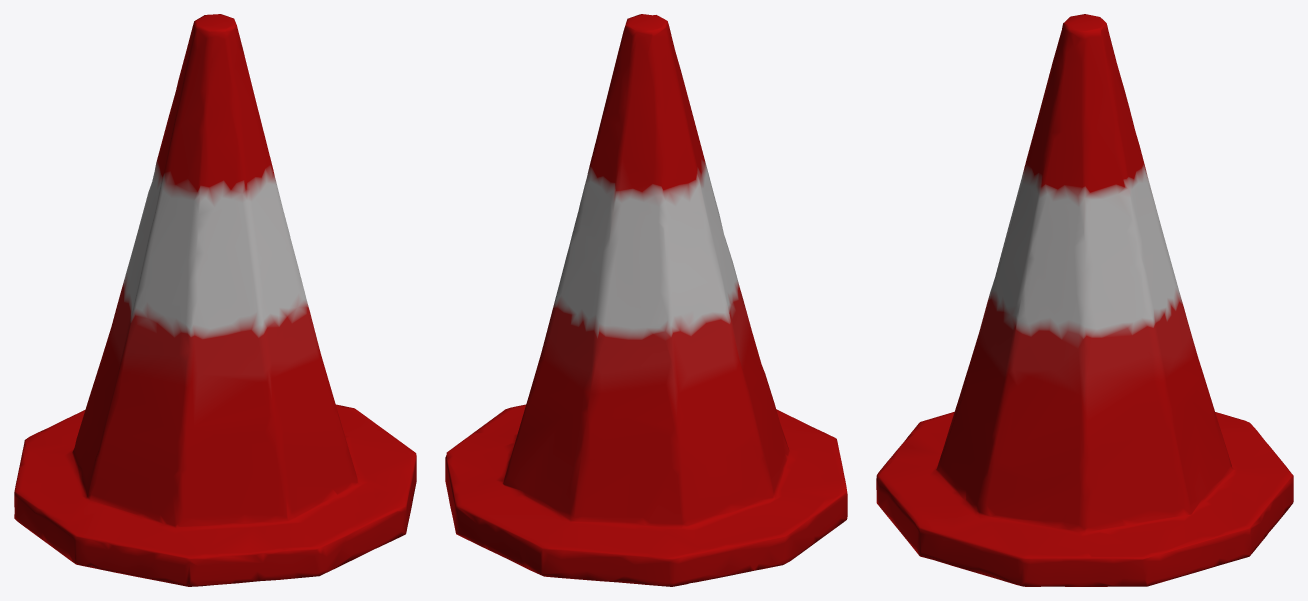
The model's file is gen3d-traffic-cone-lod0.glb.
3 views of the same model, side by side, from view 1: azimuth 30°, elevation 25°; view 2: azimuth 150°, elevation 25°; view 3: azimuth 270°, elevation 25° (orthographic).
Visible parts, largest first — view 1: part_0; view 2: part_0; view 3: part_0.
Boxes of the visible parts, left/top/right/bottom form: part_0: left=14, top=14, right=416, bottom=586; part_0: left=445, top=14, right=847, bottom=586; part_0: left=876, top=14, right=1293, bottom=586.
Bounding box in the file's own units: 0.7461 × 1 × 0.7863.
